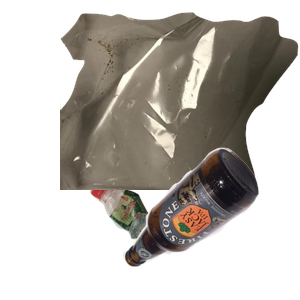glass: (120, 145, 300, 300)
metal: (60, 47, 300, 227)
plastic: (87, 178, 234, 300)
trash: (60, 10, 300, 190)
